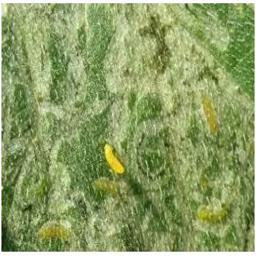liriomyza: (103, 143, 124, 175)
